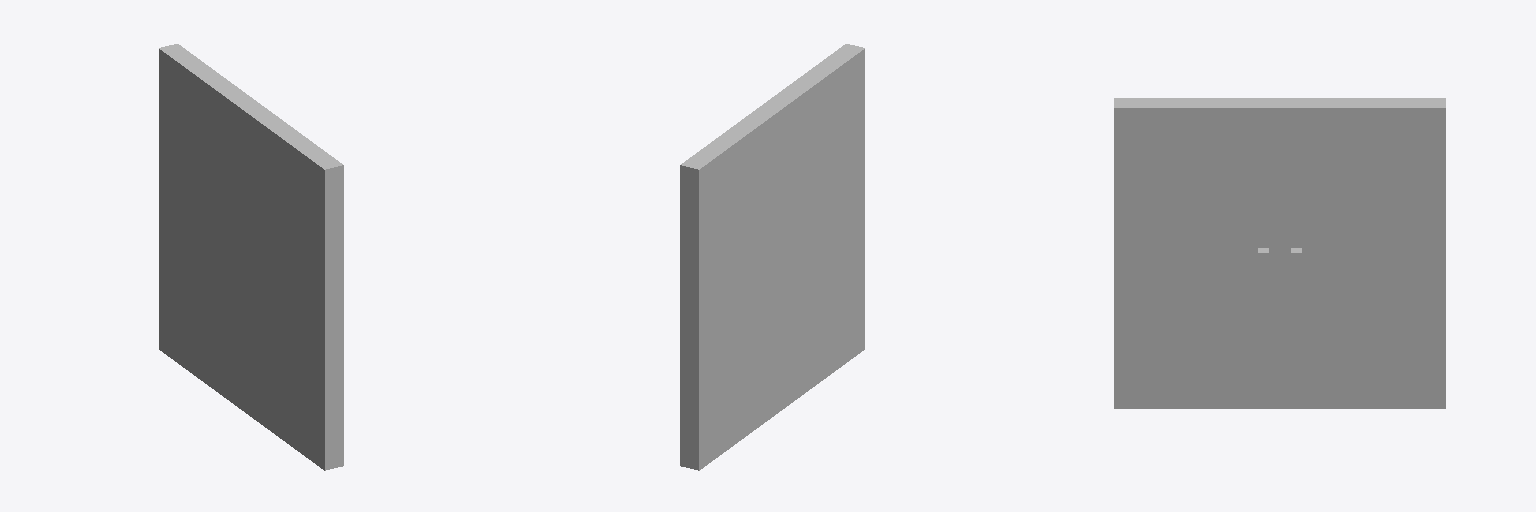
Rendered from ventana.obj.
The picture shows the model from 3 angles: view 1: azimuth 30°, elevation 25°; view 2: azimuth 150°, elevation 25°; view 3: azimuth 270°, elevation 25°; orthographic projection.
Parts seen in each view (by area): view 1: object 1; view 2: object 1; view 3: object 1.
Part boxes in pixels (x1,y1,x2,y2): object 1: (159,44,343,470); object 1: (680,44,864,470); object 1: (1114,98,1445,408).
Size of the model in its own units: 0.3 by 3 by 3.